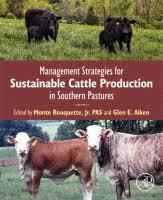cow: (74, 125, 163, 200), (5, 132, 94, 200), (25, 9, 61, 42), (106, 17, 137, 51), (100, 29, 118, 52), (27, 26, 42, 41)
